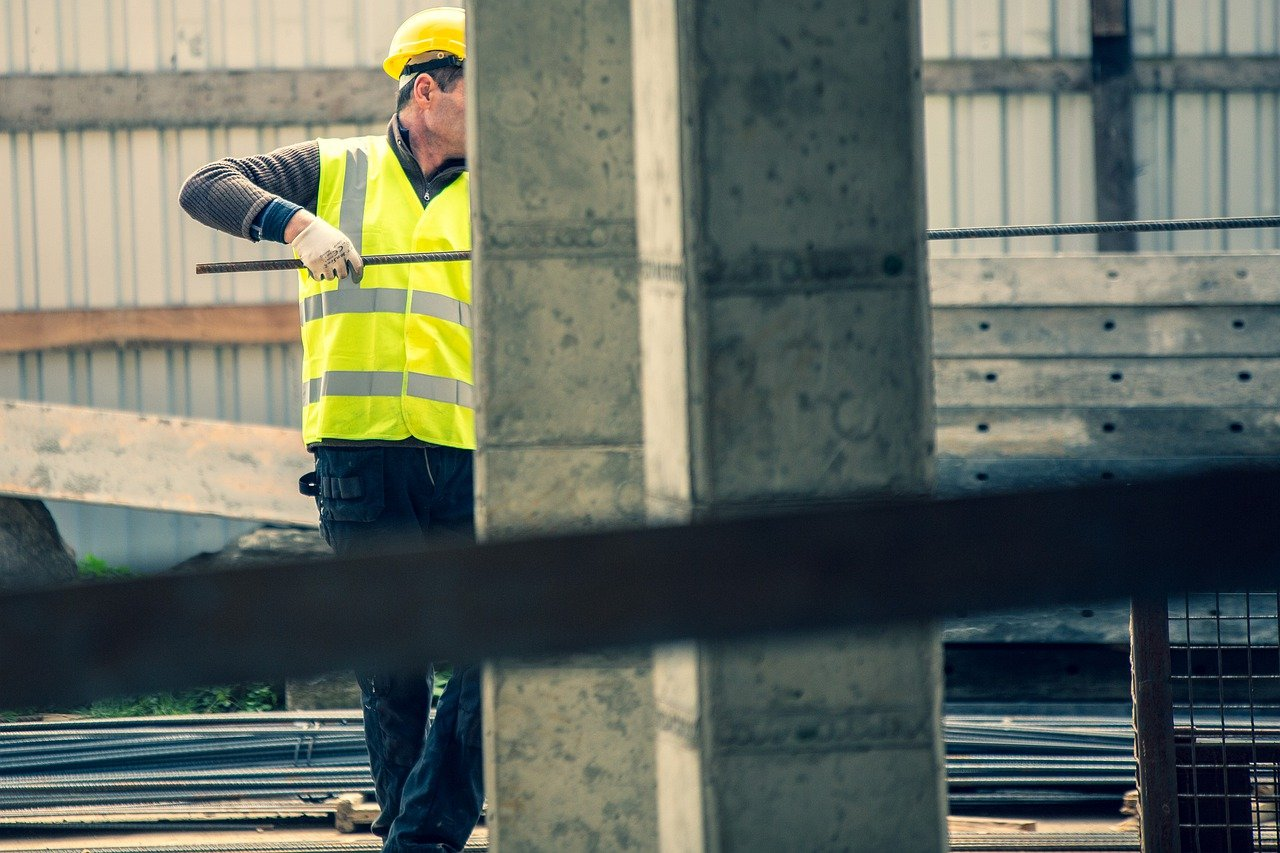Hard Hat: (380, 10, 472, 166)
Person: (232, 8, 487, 844)
Vest: (300, 54, 484, 444)
